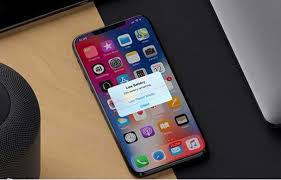iphone10: (64, 14, 213, 177)
